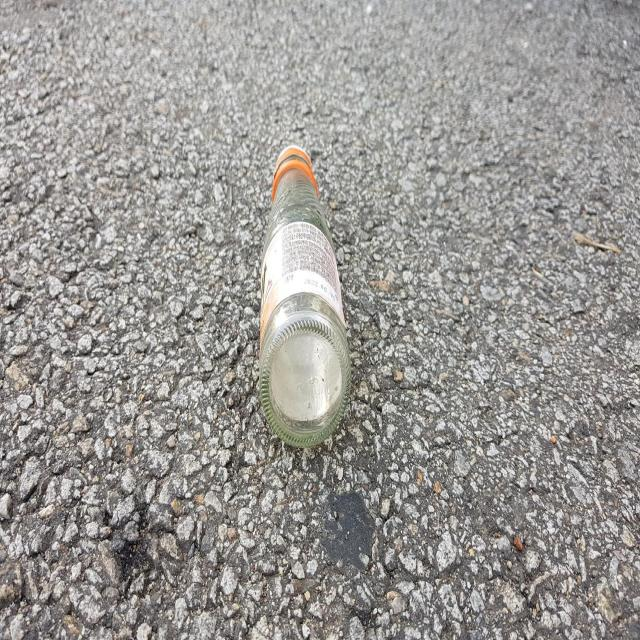glass: (260, 146, 351, 447)
